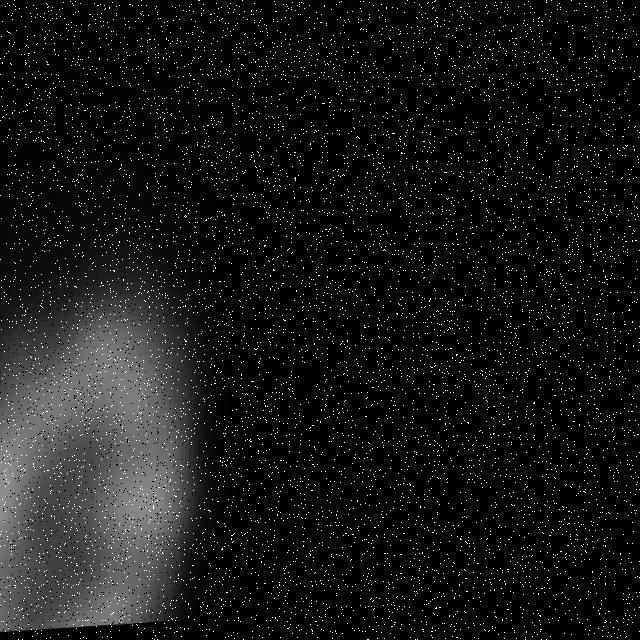person: (1, 193, 244, 639)
